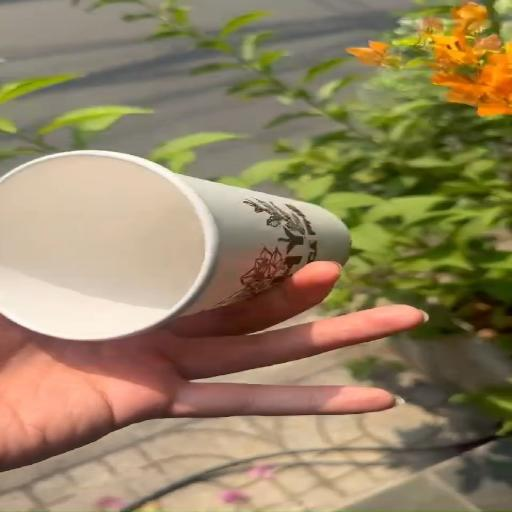Ly_giay: (0, 150, 350, 341)
